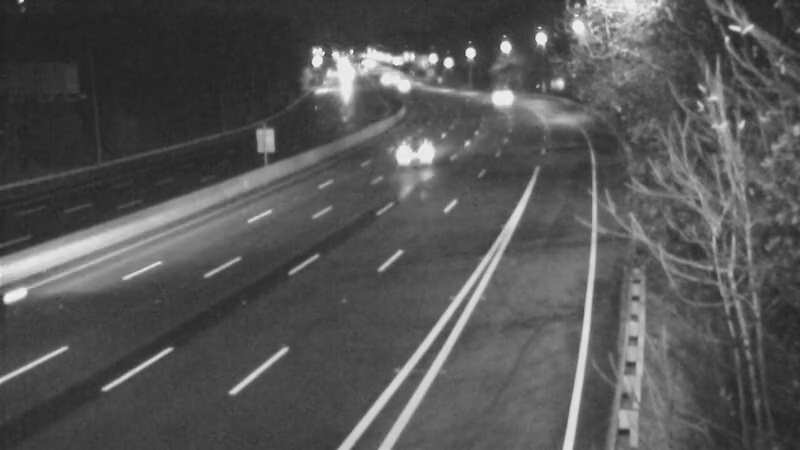vehicle: (369, 113, 449, 193), (357, 58, 407, 108), (378, 60, 428, 110), (471, 69, 521, 119)
